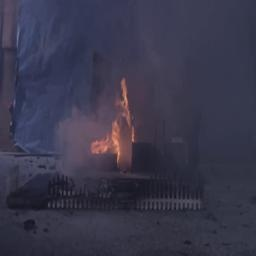fire: (90, 78, 139, 168)
